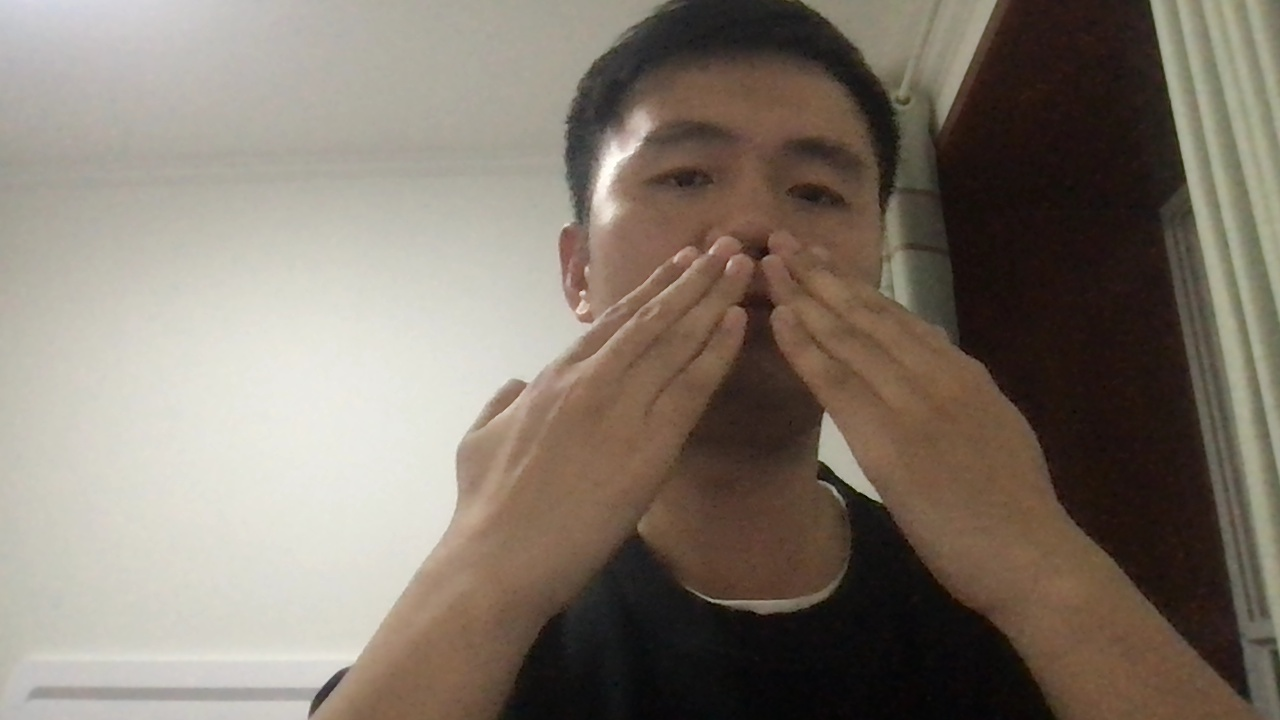thanks: (435, 226, 1126, 608)
